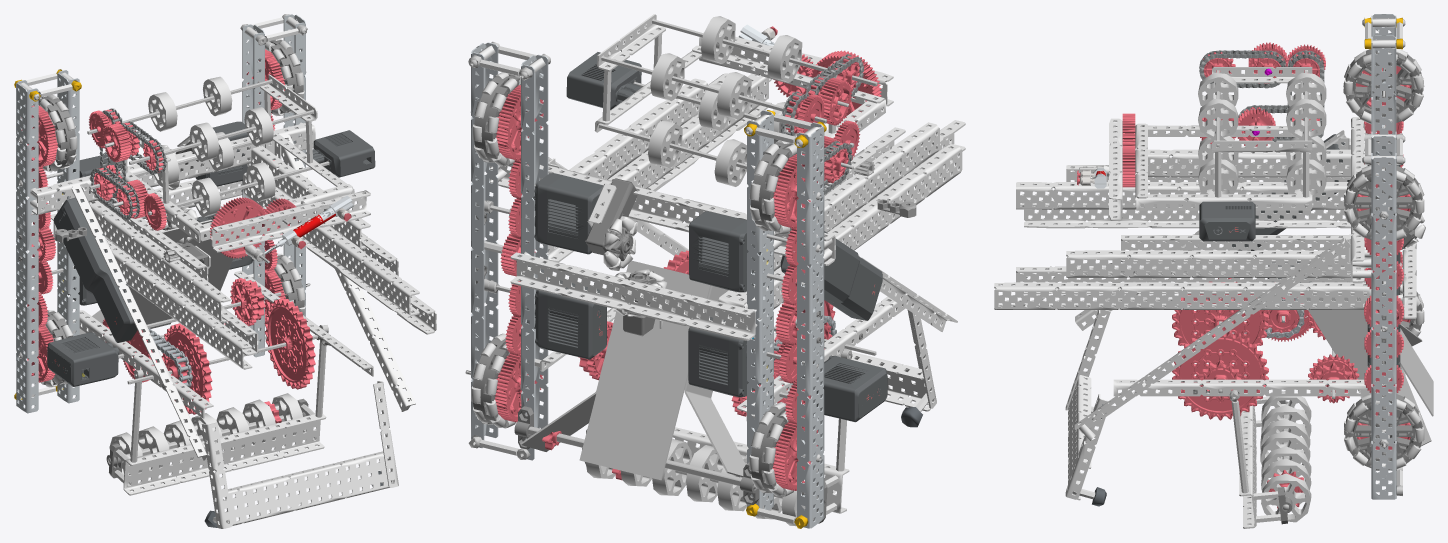
Rendered from robot.preview.glb.
3 views of the same model, side by side, from view 1: azimuth 30°, elevation 25°; view 2: azimuth 150°, elevation 25°; view 3: azimuth 270°, elevation 25° (orthographic). The views are drawn at different scales.
Parts seen in each view (by area): view 1: 1 x 2 x 1 x 30 Steel C-Channel (276-2906) (×4), 1 x 3 x 1 x 19 Aluminum C-Channel (276-4359), 1 x 1 x 27 Aluminum Angle (276-6484) (×2), 1.625" 30A Straight Flex Wheel (217-6350) (×7), 1 x 3 x 1 x 17 Aluminum C-Channel (276-4359), 1 x 2 x 1 x 30 Aluminum C-Channel (276-2289) (×2), 36T High Strength Sprocket (276-3880) (×2), 1 x 2 x 1 x 25 Aluminum C-Channel (276-2289) (×2), 3.25" Anti-Static Omni-Directional Wheel (260mm Travel) (276 (×4), 1 x 2 x 1 x 28 Aluminum C-Channel (276-2289) (×2), 1 x 2 x 1 x 19 Aluminum C-Channel (276-2289) (×3), V5 Robot Battery (276-4811) (+23 smaller); view 2: 1 x 2 x 1 x 30 Steel C-Channel (276-2906) (×4), V5 Smart Motor (6:1) (276-4840) (×5), intake main ramp, 1 x 2 x 1 x 19 Aluminum C-Channel (276-2289) (×3), 3.25" Anti-Static Omni-Directional Wheel (260mm Travel) (276 (×4), 1.625" 30A Straight Flex Wheel (217-6350) (×7), 60T High Strength Gear (276-5035) (×5), 1 x 2 x 1 x 30 Aluminum C-Channel (276-2289) (×2), 1 x 2 x 1 x 25 Aluminum C-Channel (276-2289), 1 x 2 x 1 x 28 Aluminum C-Channel (276-2289) (×2), 1 x 2 x 1 x 27 Aluminum C-Channel (276-2289), V5 Robot Battery (276-4811) (+21 smaller); view 3: 1 x 2 x 1 x 30 Aluminum C-Channel (276-2289) (×2), 1 x 2 x 1 x 30 Steel C-Channel (276-2906) (×3), 3.25" Anti-Static Omni-Directional Wheel (260mm Travel) (276 (×3), 1 x 2 x 1 x 25 Aluminum C-Channel (276-2289) (×2), 1.625" 30A Straight Flex Wheel (217-6350) (×8), 1 x 2 x 1 x 19 Aluminum C-Channel (276-2289) (×3), 1 x 2 x 1 x 28 Aluminum C-Channel (276-2289) (×2), 36T High Strength Sprocket (276-3880) (×2), 2" 30A Straight Flex Wheel (217-6353) (×7), 1 x 1 x 27 Aluminum Angle (276-6484) (×2), 1 x 1 x 22 Aluminum Angle (276-6484), 1 x 1 x 14 Aluminum Angle (276-6484) (×2) (+17 smaller).
Part boxes in pixels (x1,y1,x2,y2): 1 x 2 x 1 x 30 Steel C-Channel (276-2906) (×4): (16, 14, 305, 413); 1 x 3 x 1 x 19 Aluminum C-Channel (276-4359): (123, 413, 326, 495); 1 x 1 x 27 Aluminum Angle (276-6484) (×2): (71, 134, 415, 460); 1.625" 30A Straight Flex Wheel (217-6350) (×7): (148, 76, 275, 217); 1 x 3 x 1 x 17 Aluminum C-Channel (276-4359): (223, 451, 394, 525); 1 x 2 x 1 x 30 Aluminum C-Channel (276-2289) (×2): (106, 198, 436, 369); 36T High Strength Sprocket (276-3880) (×2): (161, 298, 315, 414); 1 x 2 x 1 x 25 Aluminum C-Channel (276-2289) (×2): (89, 161, 398, 322); 3.25" Anti-Static Omni-Directional Wheel (260mm Travel) (276 (×4): (32, 38, 305, 387); 1 x 2 x 1 x 28 Aluminum C-Channel (276-2289) (×2): (102, 172, 419, 355); 1 x 2 x 1 x 19 Aluminum C-Channel (276-2289) (×3): (50, 146, 370, 287); V5 Robot Battery (276-4811): (53, 197, 141, 342); 1 x 2 x 1 x 30 Steel C-Channel (276-2906) (×4): (471, 42, 824, 528); V5 Smart Motor (6:1) (276-4840) (×5): (526, 173, 887, 422); intake main ramp: (579, 260, 710, 480); 1 x 2 x 1 x 19 Aluminum C-Channel (276-2289) (×3): (510, 78, 905, 340); 3.25" Anti-Static Omni-Directional Wheel (260mm Travel) (276 (×4): (471, 72, 805, 496); 1.625" 30A Straight Flex Wheel (217-6350) (×7): (648, 16, 802, 186); 60T High Strength Gear (276-5035) (×5): (494, 50, 881, 490); 1 x 2 x 1 x 30 Aluminum C-Channel (276-2289) (×2): (543, 78, 962, 324); 1 x 2 x 1 x 25 Aluminum C-Channel (276-2289): (763, 122, 939, 271); 1 x 2 x 1 x 28 Aluminum C-Channel (276-2289) (×2): (608, 73, 965, 287); 1 x 2 x 1 x 27 Aluminum C-Channel (276-2289): (498, 164, 835, 265); V5 Robot Battery (276-4811): (780, 231, 882, 320); 1 x 2 x 1 x 30 Aluminum C-Channel (276-2289) (×2): (994, 203, 1371, 309); 1 x 2 x 1 x 30 Steel C-Channel (276-2906) (×3): (1371, 35, 1396, 499); 3.25" Anti-Static Omni-Directional Wheel (260mm Travel) (276 (×3): (1343, 48, 1424, 470); 1 x 2 x 1 x 25 Aluminum C-Channel (276-2289) (×2): (1066, 165, 1371, 277); 1.625" 30A Straight Flex Wheel (217-6350) (×8): (1198, 72, 1326, 196); 1 x 2 x 1 x 19 Aluminum C-Channel (276-2289) (×3): (1121, 149, 1416, 318); 1 x 2 x 1 x 28 Aluminum C-Channel (276-2289) (×2): (1016, 182, 1367, 294); 36T High Strength Sprocket (276-3880) (×2): (1172, 278, 1268, 420); 2" 30A Straight Flex Wheel (217-6353) (×7): (1260, 391, 1311, 522); 1 x 1 x 27 Aluminum Angle (276-6484) (×2): (1074, 130, 1350, 433); 1 x 1 x 22 Aluminum Angle (276-6484): (1113, 379, 1369, 396); 1 x 1 x 14 Aluminum Angle (276-6484) (×2): (1136, 125, 1312, 210).
Bounding box in the file's own units: 0.3849 × 0.4409 × 0.4438.
